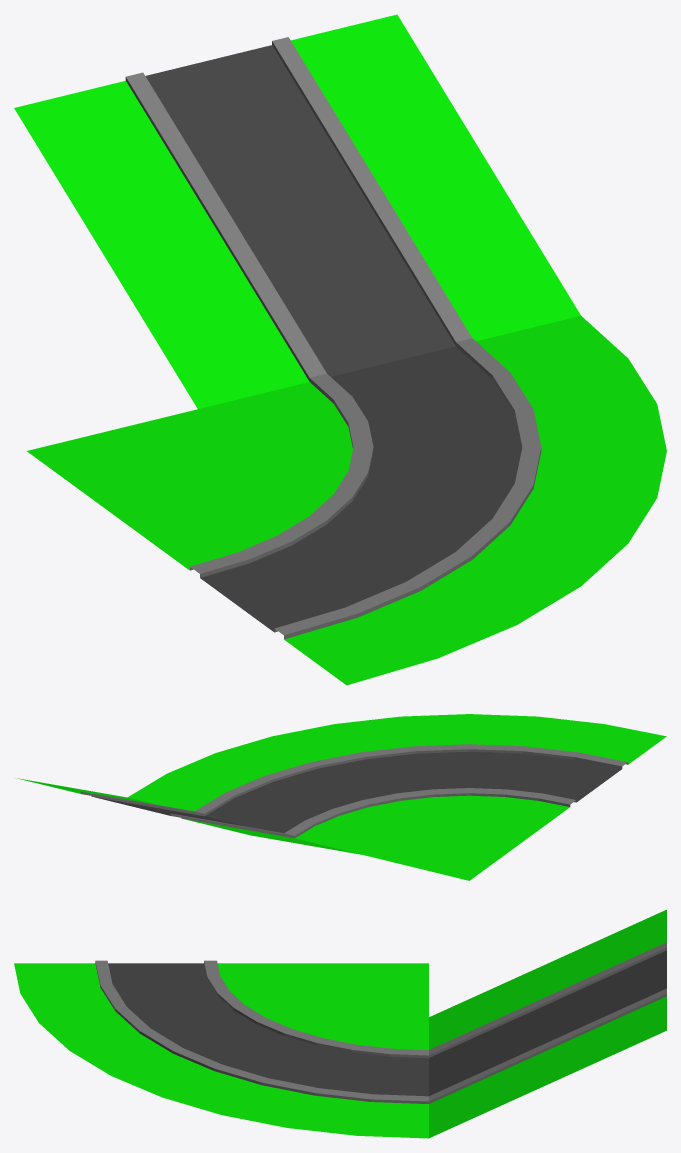
File: RightCurveTile.fbx
3 views of the same model, one above another, from view 1: azimuth 30°, elevation 25°; view 2: azimuth 150°, elevation 25°; view 3: azimuth 270°, elevation 25° (orthographic). The views are drawn at different scales.
Visible parts, largest first — view 1: CurveTileR; view 2: CurveTileR; view 3: CurveTileR.
Boxes of the visible parts, left/top/right/bottom form: CurveTileR: left=14, top=14, right=666, bottom=685; CurveTileR: left=17, top=714, right=666, bottom=880; CurveTileR: left=14, top=909, right=666, bottom=1138.
Size of the model in its own units: 8709 by 2561 by 13709.
